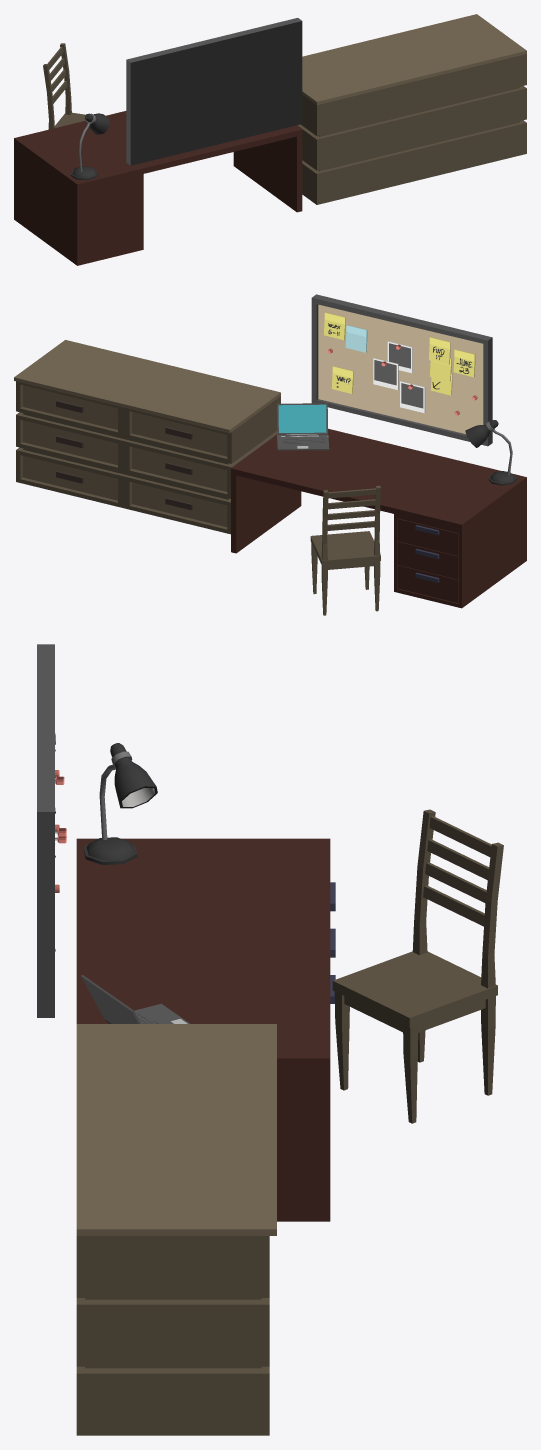
Rendered from Interior.fbx.
The picture shows the model from 3 angles, top to bottom: view 1: azimuth 30°, elevation 25°; view 2: azimuth 150°, elevation 25°; view 3: azimuth 270°, elevation 25°; orthographic projection. The views are drawn at different scales.
Visible parts, largest first — view 1: Drawer, Desk, Pegboard, Chair, Light_Desk; view 2: Drawer, Desk, Pegboard, Chair, Laptop, Light_Desk; view 3: Drawer, Desk, Chair, Pegboard, Light_Desk, Laptop.
Boxes of the visible parts, left/top/right/bottom form: Drawer: left=297, top=14, right=526, bottom=204; Desk: left=14, top=111, right=302, bottom=265; Pegboard: left=126, top=18, right=302, bottom=165; Chair: left=43, top=43, right=85, bottom=129; Light_Desk: left=70, top=113, right=109, bottom=180; Drawer: left=14, top=340, right=280, bottom=534; Desk: left=231, top=428, right=526, bottom=608; Pegboard: left=311, top=294, right=492, bottom=446; Chair: left=310, top=485, right=380, bottom=615; Laptop: left=277, top=403, right=329, bottom=450; Light_Desk: left=465, top=420, right=516, bottom=485; Drawer: left=76, top=1024, right=276, bottom=1435; Desk: left=76, top=838, right=335, bottom=1221; Chair: left=332, top=809, right=503, bottom=1123; Pegboard: left=37, top=644, right=66, bottom=1017; Light_Desk: left=83, top=743, right=157, bottom=864; Laptop: left=81, top=975, right=189, bottom=1023.
Bounding box in the file's own units: 466 × 198 × 210.
Materials: 18 (1 with a texture image).
